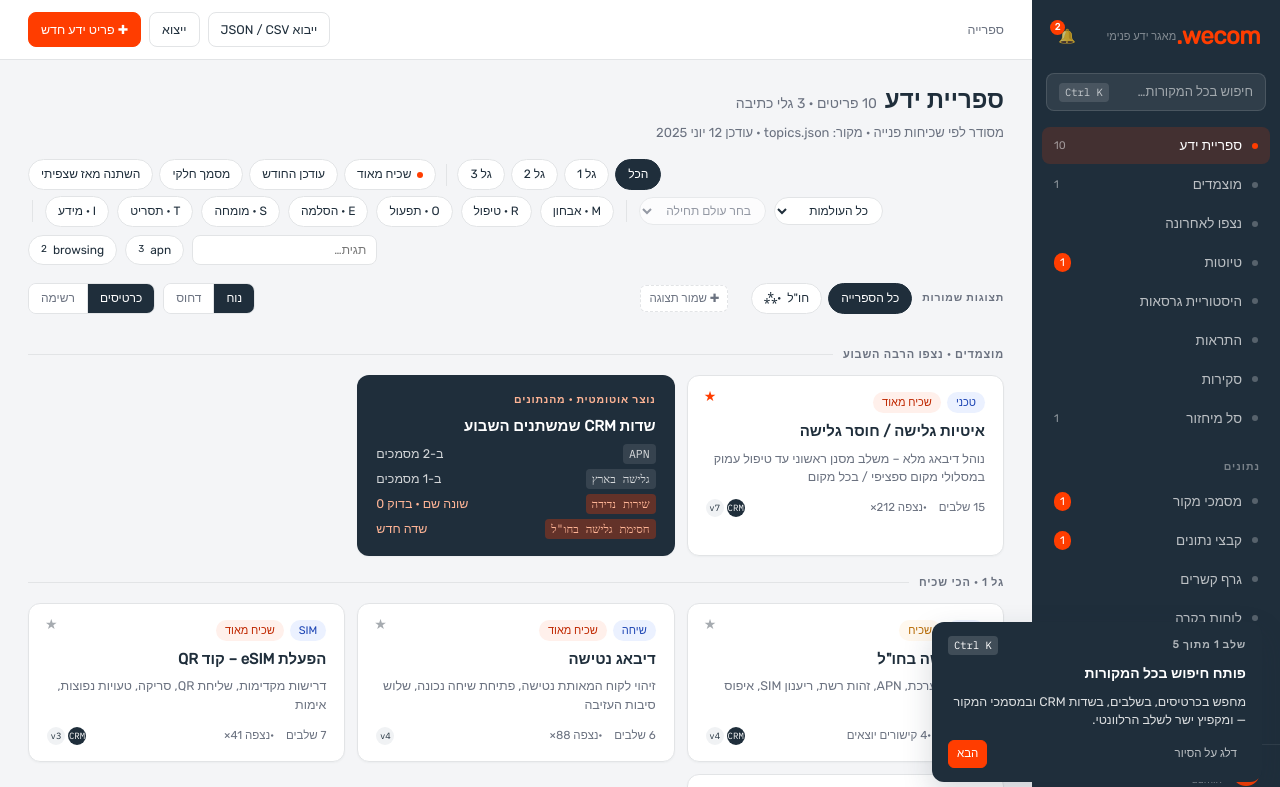
palette · the three-character floor › answers a short query out of the documents already in the cache
Type keys "{Control>}k{/Control}"
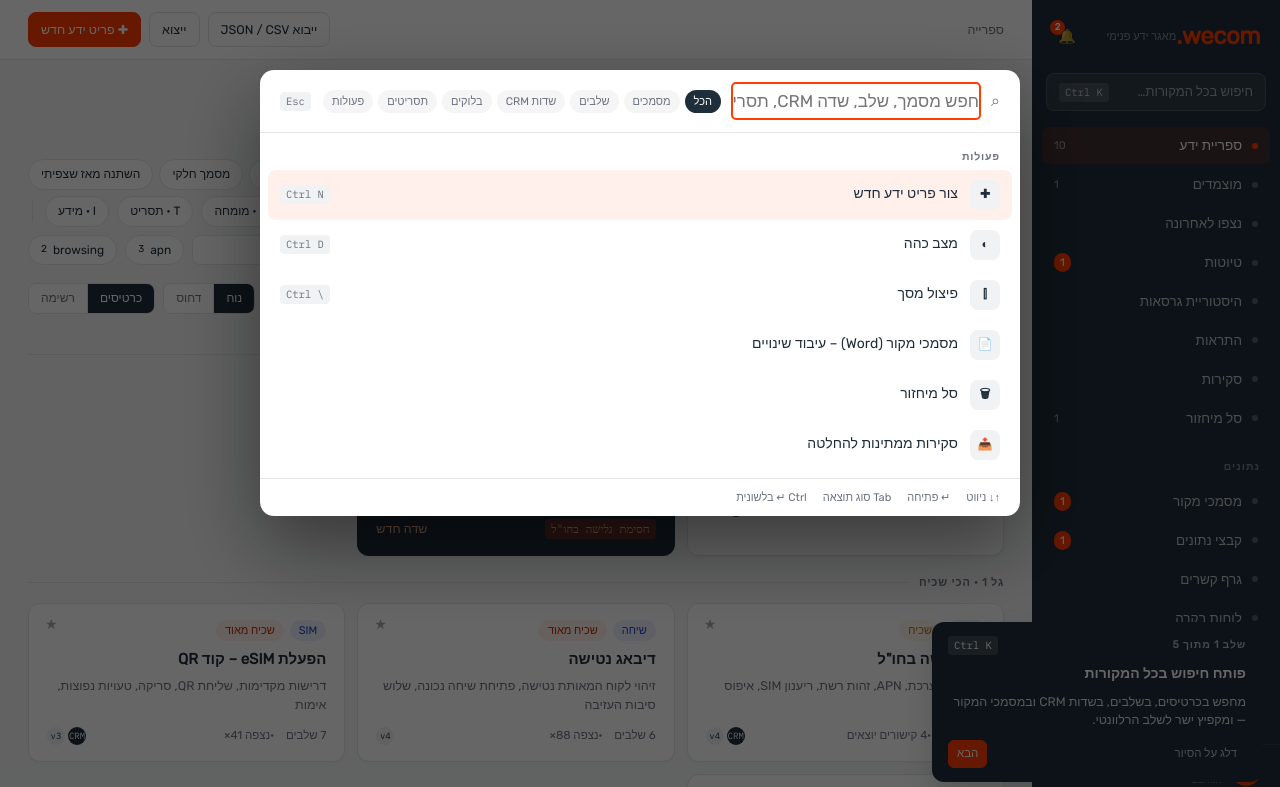
In the field with placeholder "חפש מסמך, שלב, שדה CRM, תסריט או פעולה…": point(856, 101) [733,84,979,118], type "אי"
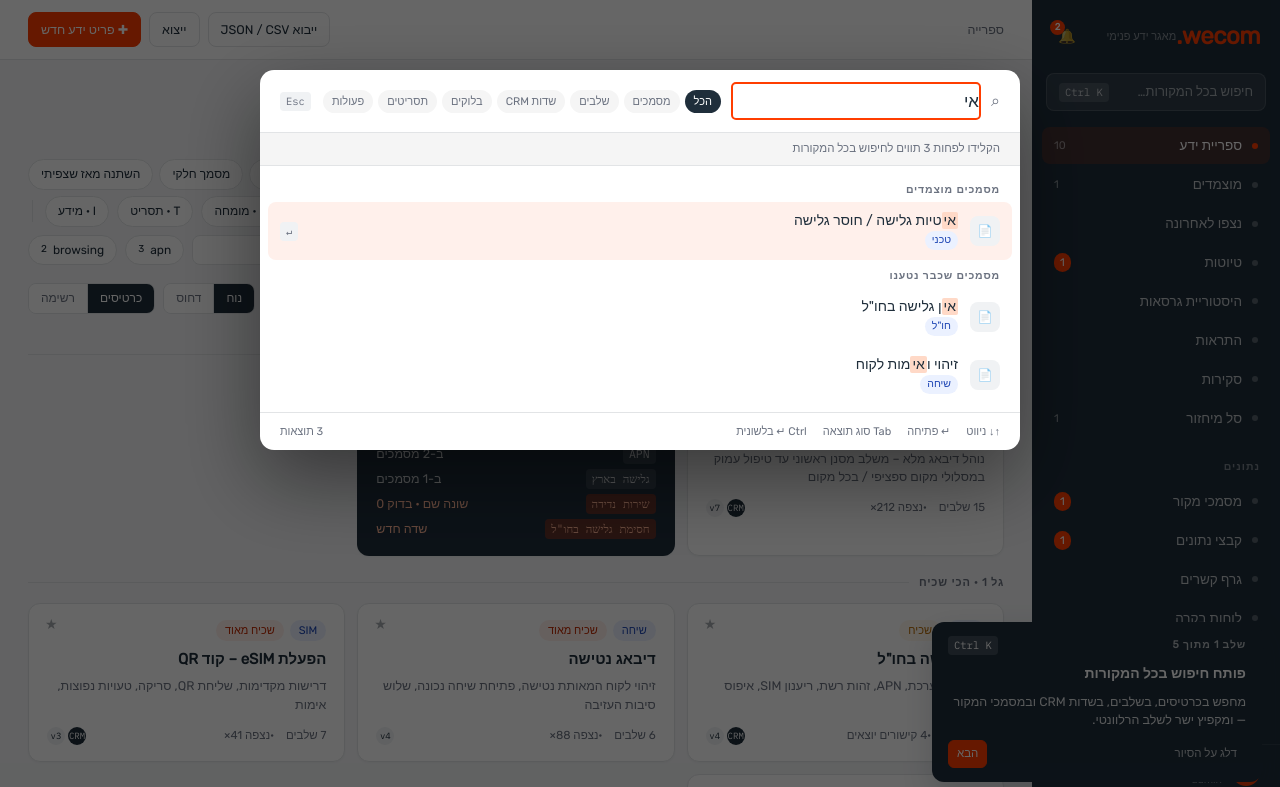
Expected: the element with class "res" shows "מסמכים מוצמדים", [906,183,1000,196]
Expected: the button "📄 איטיות גלישה / חוסר גלישה טכני ↵" is shown, [268,202,1012,260]
